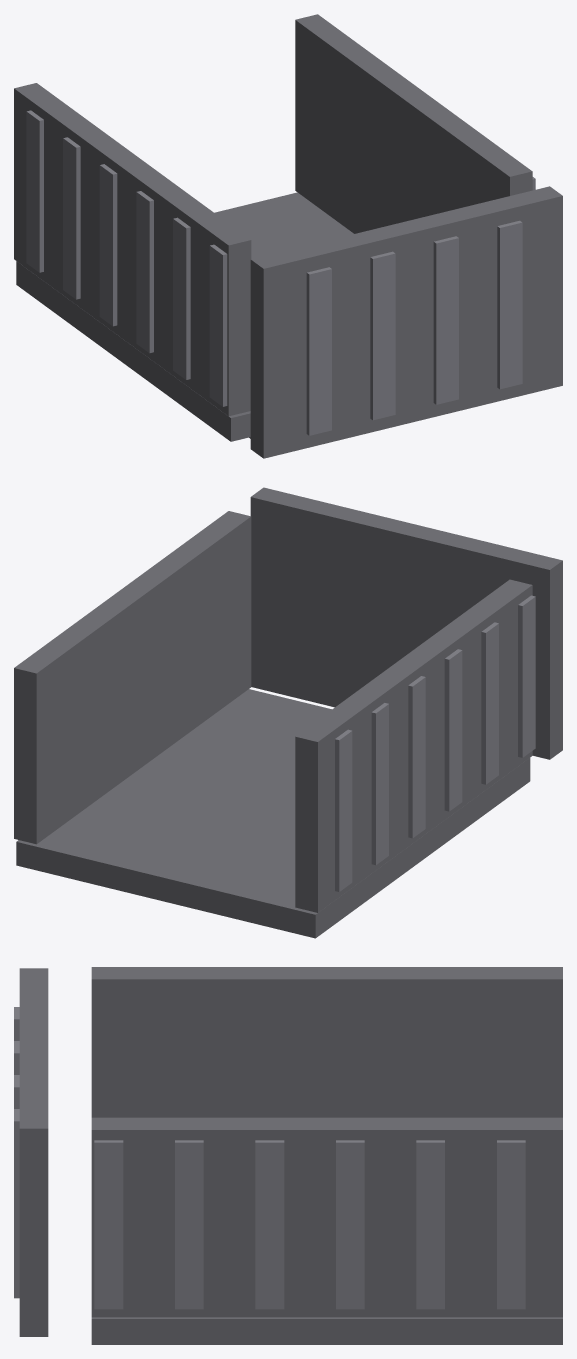
The model's file is inverter_muffle.obj.
The picture shows the model from 3 angles, top to bottom: view 1: azimuth 30°, elevation 25°; view 2: azimuth 150°, elevation 25°; view 3: azimuth 270°, elevation 25°; orthographic projection. The views are drawn at different scales.
Size of the model in its own units: 0.69 by 0.425 by 0.955.
